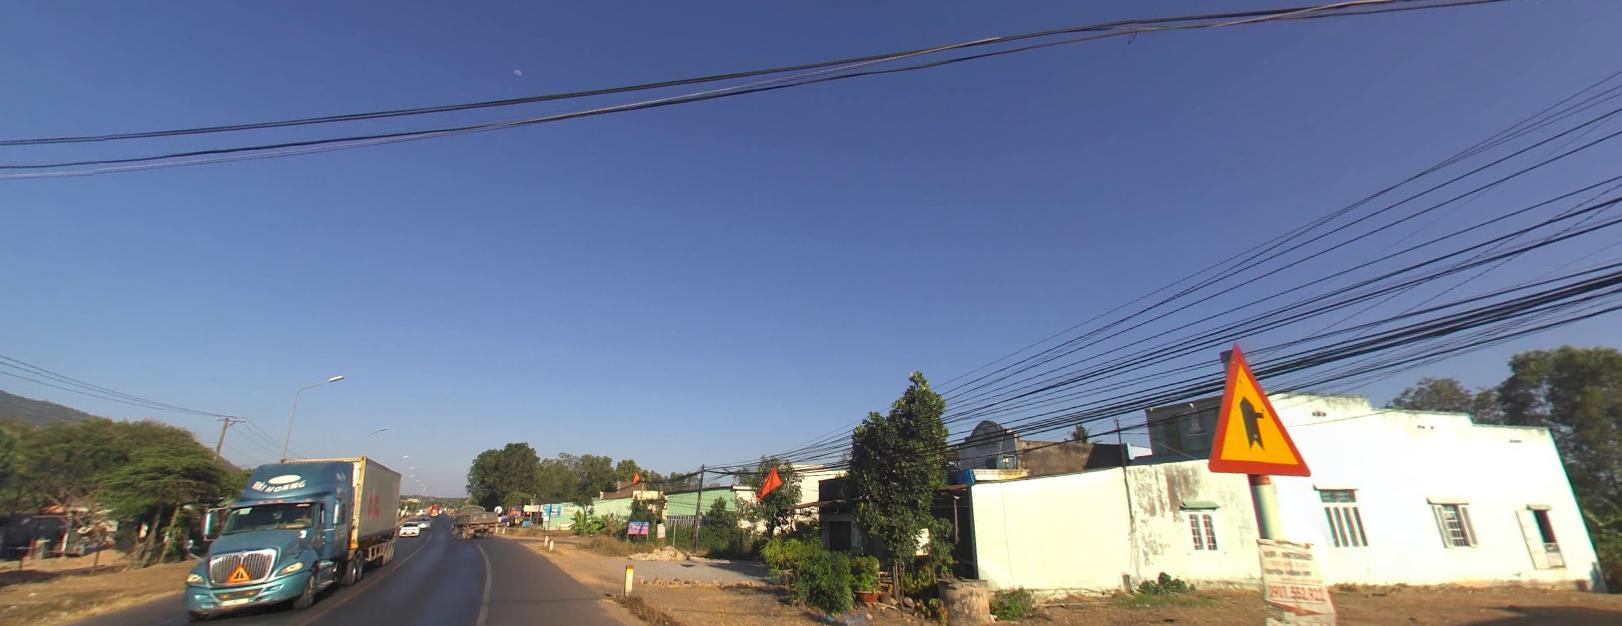Nguy hiem: (1201, 331, 1313, 483)
